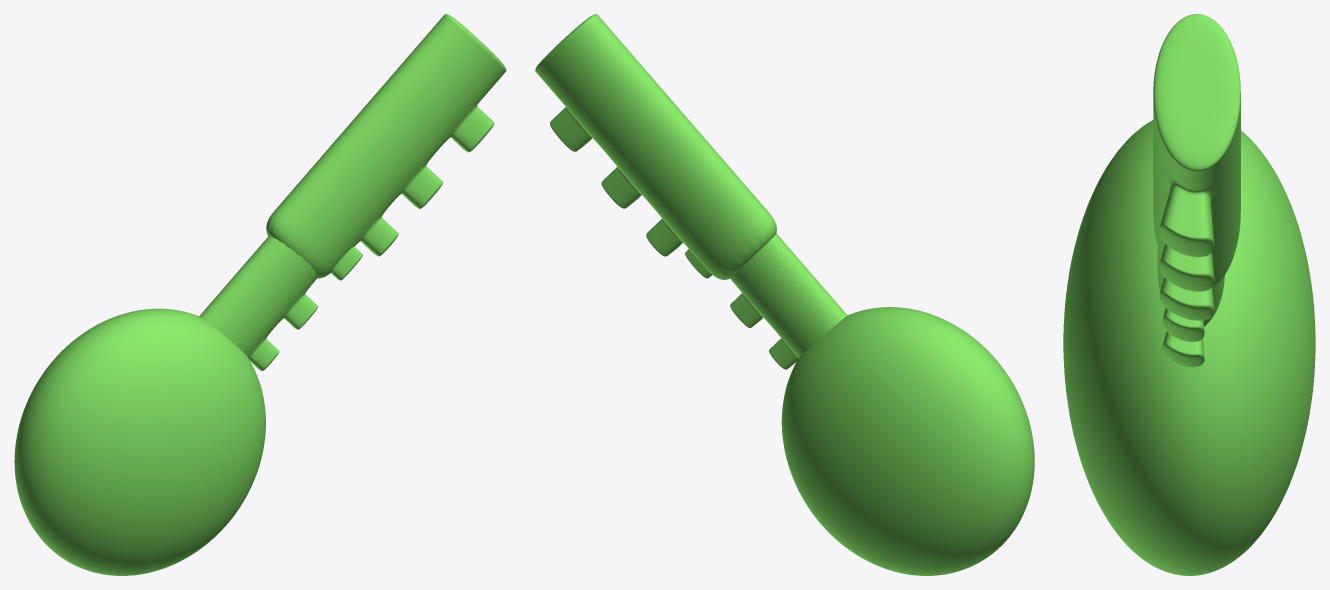
Rendered from G1_keyModelTanzeela.fbx.
The picture shows the model from 3 angles, left to right: view 1: azimuth 30°, elevation 25°; view 2: azimuth 150°, elevation 25°; view 3: azimuth 270°, elevation 25°; orthographic projection. The views are drawn at different scales.
Visible parts, largest first — view 1: pSphere1, pCylinder2, pCylinder1; view 2: pSphere1, pCylinder2, pCylinder1; view 3: pSphere1, pCylinder2, pCylinder1.
Boxes of the visible parts, box(x1,y1,x2,y2) form: pSphere1: box(14, 308, 265, 575); pCylinder2: box(266, 14, 506, 278); pCylinder1: box(199, 236, 362, 370); pSphere1: box(781, 307, 1034, 575); pCylinder2: box(535, 14, 776, 279); pCylinder1: box(685, 233, 847, 369); pSphere1: box(1063, 120, 1315, 575); pCylinder2: box(1153, 14, 1240, 320); pCylinder1: box(1157, 248, 1224, 367).
Size of the model in its own units: 11.13 by 10.44 by 3.01.
